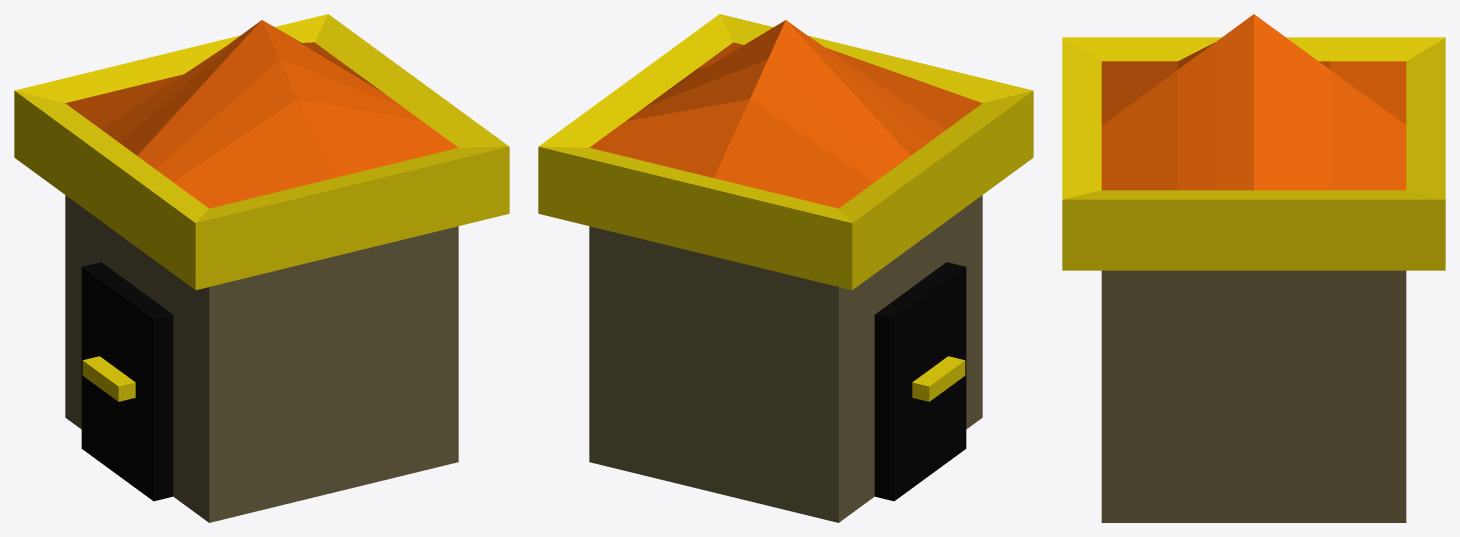
File: hut5.glb
3 views of the same model, side by side, from view 1: azimuth 30°, elevation 25°; view 2: azimuth 150°, elevation 25°; view 3: azimuth 270°, elevation 25° (orthographic). The views are drawn at different scales.
Visible parts, largest first — view 1: Cube; view 2: Cube; view 3: Cube.
Boxes of the visible parts, <box> form: Cube: <box>14,14,509,522</box>; Cube: <box>538,14,1033,522</box>; Cube: <box>1062,14,1445,522</box>.
Size of the model in its own units: 9.57 by 12.06 by 9.43.
